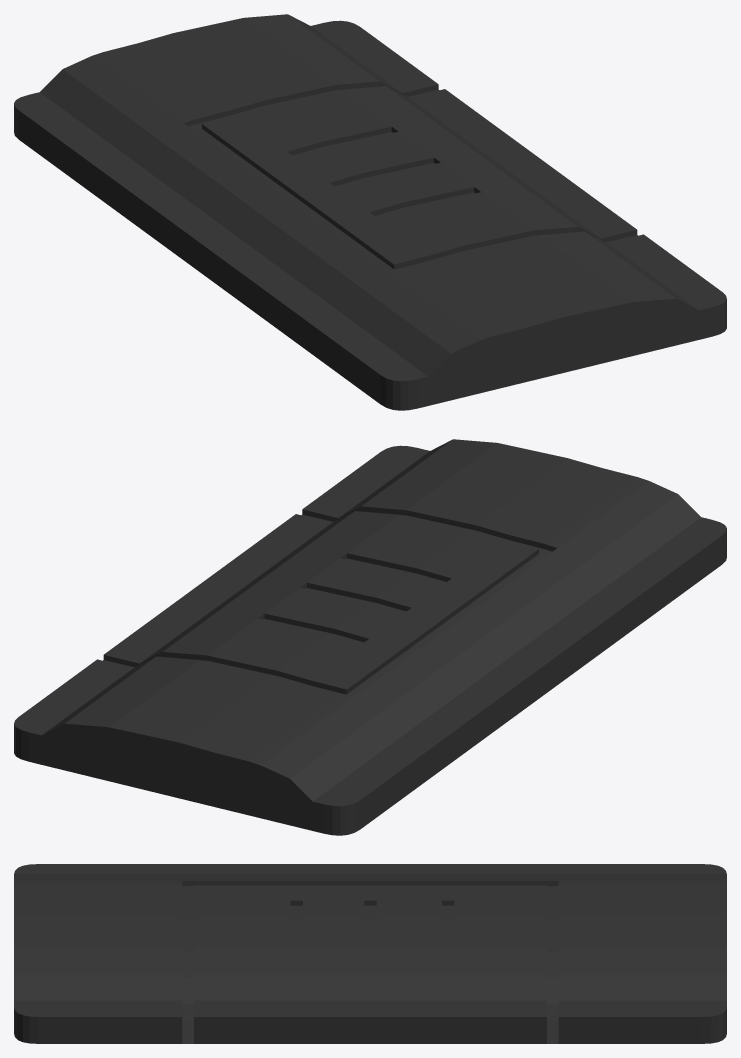
File: obj_trashcan_002.FBX
The picture shows the model from 3 angles, top to bottom: view 1: azimuth 30°, elevation 25°; view 2: azimuth 150°, elevation 25°; view 3: azimuth 270°, elevation 25°; orthographic projection. The views are drawn at different scales.
Visible parts, largest first — view 1: obj_trashcan_002; view 2: obj_trashcan_002; view 3: obj_trashcan_002.
Part boxes in pixels (x1,y1,x2,y2): obj_trashcan_002: (14,14,726,410); obj_trashcan_002: (14,439,726,835); obj_trashcan_002: (14,864,726,1043).
Size of the model in its own units: 103 by 16.1 by 203.
